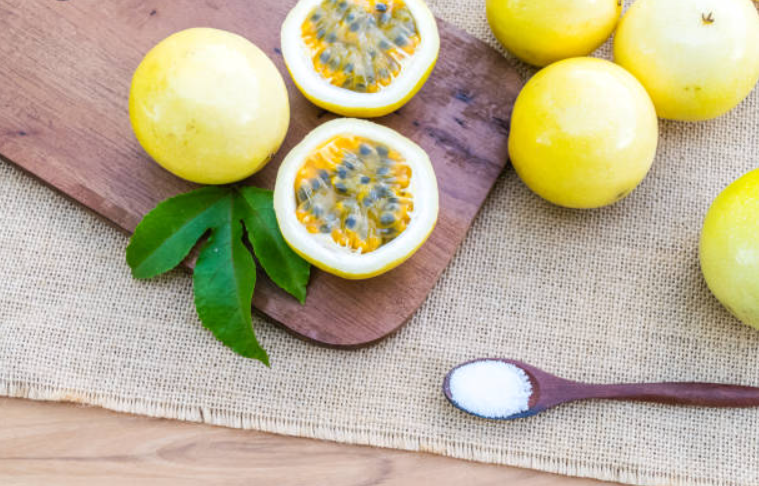maracuya: (121, 24, 294, 192), (505, 53, 659, 214)
